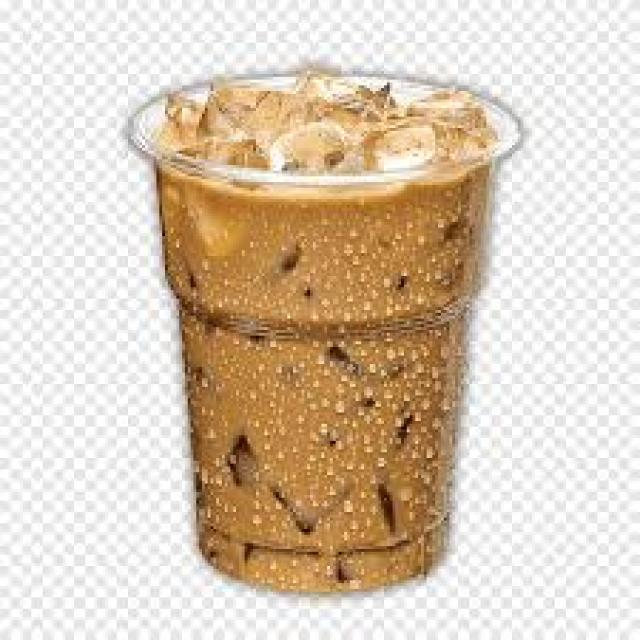bottle: (131, 78, 519, 591)
